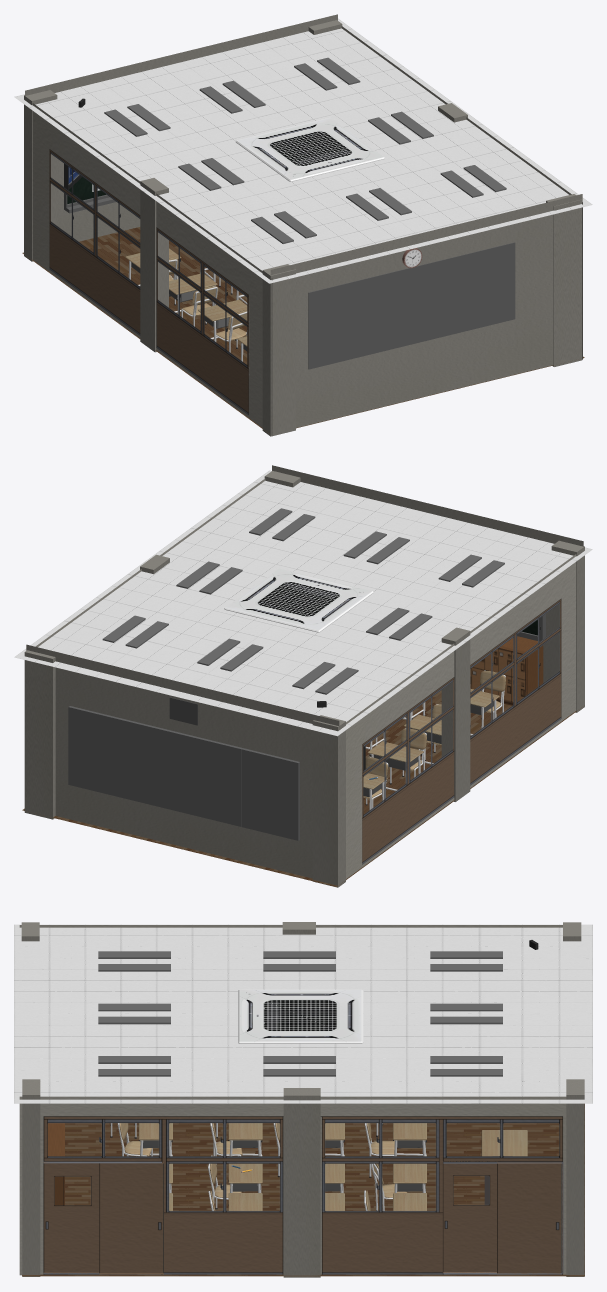
3 renders of one model, top to bottom at view 1: azimuth 30°, elevation 25°; view 2: azimuth 150°, elevation 25°; view 3: azimuth 270°, elevation 25°, orthographic. The views are drawn at different scales.
Visible parts, largest first — view 1: pPlane8, pPlane7, pPlane6, polySurface9, pCube9, pCube14, pPlane5, pCube10, badak, pCube6, pCube7, polySurface1; view 2: pPlane8, pPlane6, pPlane5, polySurface9 (×3), pCube7, pCube14, pCube8, pCube6, badak, pPlane7, locker, pCube9 (+3 smaller); view 3: pPlane8, polySurface1, badak, polySurface7, polySurface5, pCube5, pCube14, polySurface6, polySurface4, pCube15 (×8), pCube17 (×8), desk5 (×6) (+5 smaller).
Part boxes in pixels (box(x1,y1,x2,y2)): pPlane8: box(14, 18, 592, 283); pPlane7: box(270, 194, 582, 427); pPlane6: box(32, 103, 272, 435); polySurface9: box(308, 242, 515, 369); pCube9: box(262, 264, 295, 436); pCube14: box(235, 117, 384, 181); pPlane5: box(25, 14, 337, 241); pCube10: box(546, 194, 582, 366); badak: box(22, 227, 584, 433); pCube6: box(140, 178, 168, 352); pCube7: box(24, 90, 57, 261); polySurface1: box(341, 26, 582, 359); pPlane8: box(14, 470, 592, 736); pPlane6: box(346, 554, 576, 878); pPlane5: box(26, 644, 339, 878); polySurface9 (×3): box(68, 706, 299, 840); pCube7: box(312, 715, 345, 887); pCube14: box(224, 568, 373, 632); pCube8: box(24, 650, 55, 819); pCube6: box(441, 627, 470, 801); badak: box(22, 690, 584, 886); pPlane7: box(272, 465, 583, 682); locker: box(470, 636, 543, 705); pCube9: box(551, 540, 584, 712); pPlane8: box(14, 924, 592, 1103); polySurface1: box(19, 1096, 566, 1275); badak: box(22, 1104, 584, 1276); polySurface7: box(99, 1162, 163, 1274); polySurface5: box(497, 1162, 561, 1273); pCube5: box(283, 1088, 320, 1277); pCube14: box(238, 989, 363, 1043); polySurface6: box(43, 1162, 99, 1273); polySurface4: box(443, 1161, 497, 1272); pCube15 (×8): box(98, 951, 502, 1063); pCube17 (×8): box(98, 964, 502, 1076); desk5 (×6): box(228, 1123, 426, 1210).
Bounding box in the file's own units: 0.2272 × 0.1114 × 0.3105.
37 materials, 23 textured.
